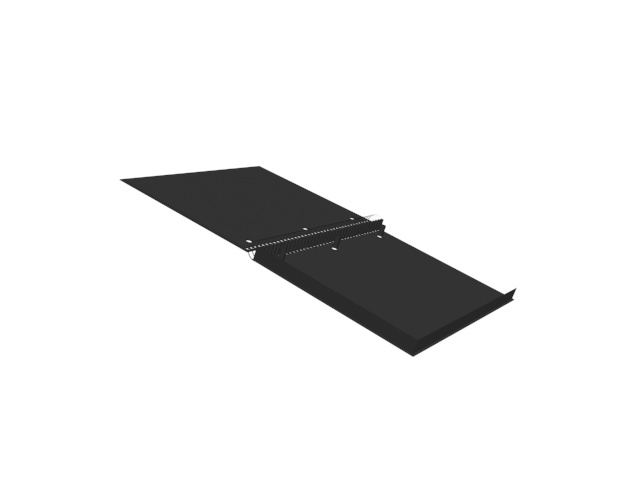paper_notebook: (113, 161, 520, 360)
